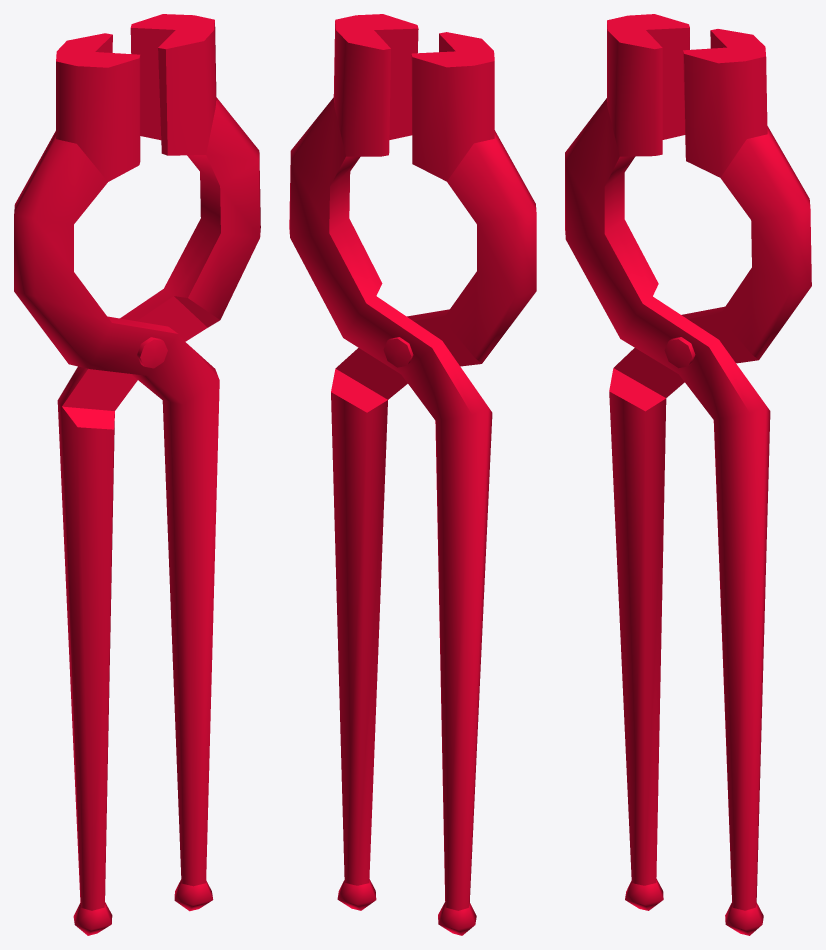
File: Tools_Tongs.fbx
3 renders of one model, left to right at view 1: azimuth 30°, elevation 25°; view 2: azimuth 150°, elevation 25°; view 3: azimuth 330°, elevation 25°, orthographic.
Visible parts, largest first — view 1: Tools_Tongs; view 2: Tools_Tongs; view 3: Tools_Tongs.
Boxes of the visible parts, x1,y1,x2,y2 form: Tools_Tongs: (14, 14, 260, 935); Tools_Tongs: (289, 14, 536, 935); Tools_Tongs: (565, 14, 811, 935).
Size of the model in its own units: 67.82 by 232 by 18.77.
